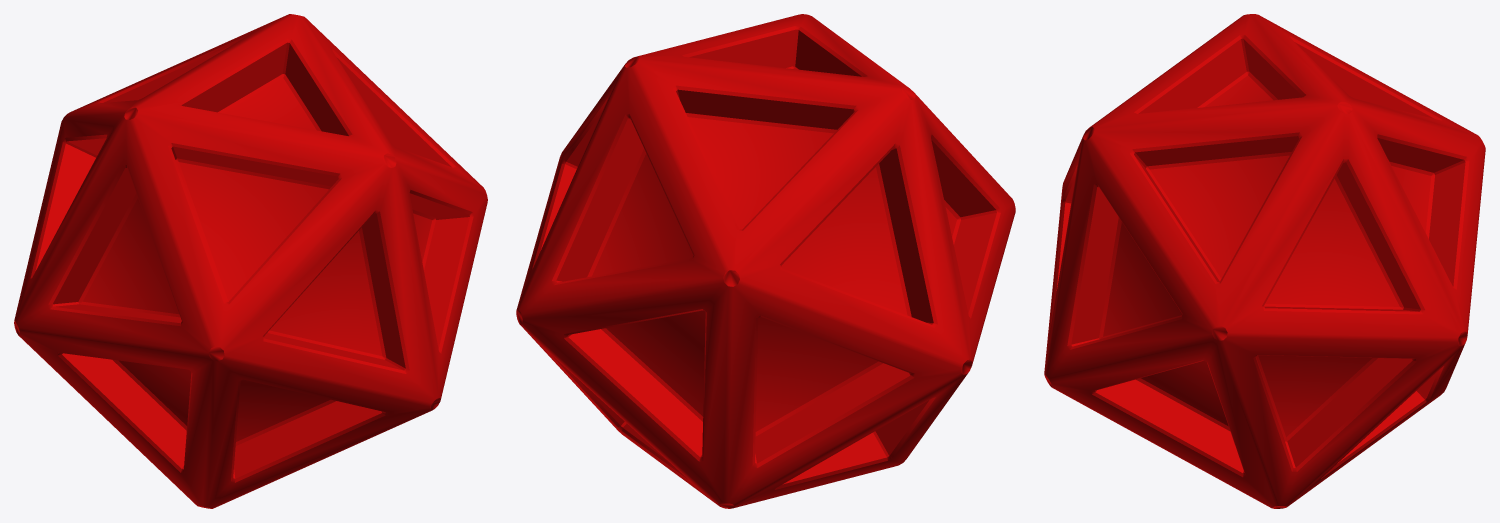
Rendered from poligonopieno2.gltf.
3 renders of one model, left to right at view 1: azimuth 30°, elevation 25°; view 2: azimuth 150°, elevation 25°; view 3: azimuth 270°, elevation 25°, orthographic. The views are drawn at different scales.
Visible parts, largest first — view 1: Polyhedron; view 2: Polyhedron; view 3: Polyhedron.
Part boxes in pixels (x1,y1,x2,y2): Polyhedron: (14,14,487,508); Polyhedron: (516,14,1015,508); Polyhedron: (1044,14,1485,508).
Bounding box in the file's own units: 95.88 × 85.74 × 86.05.
